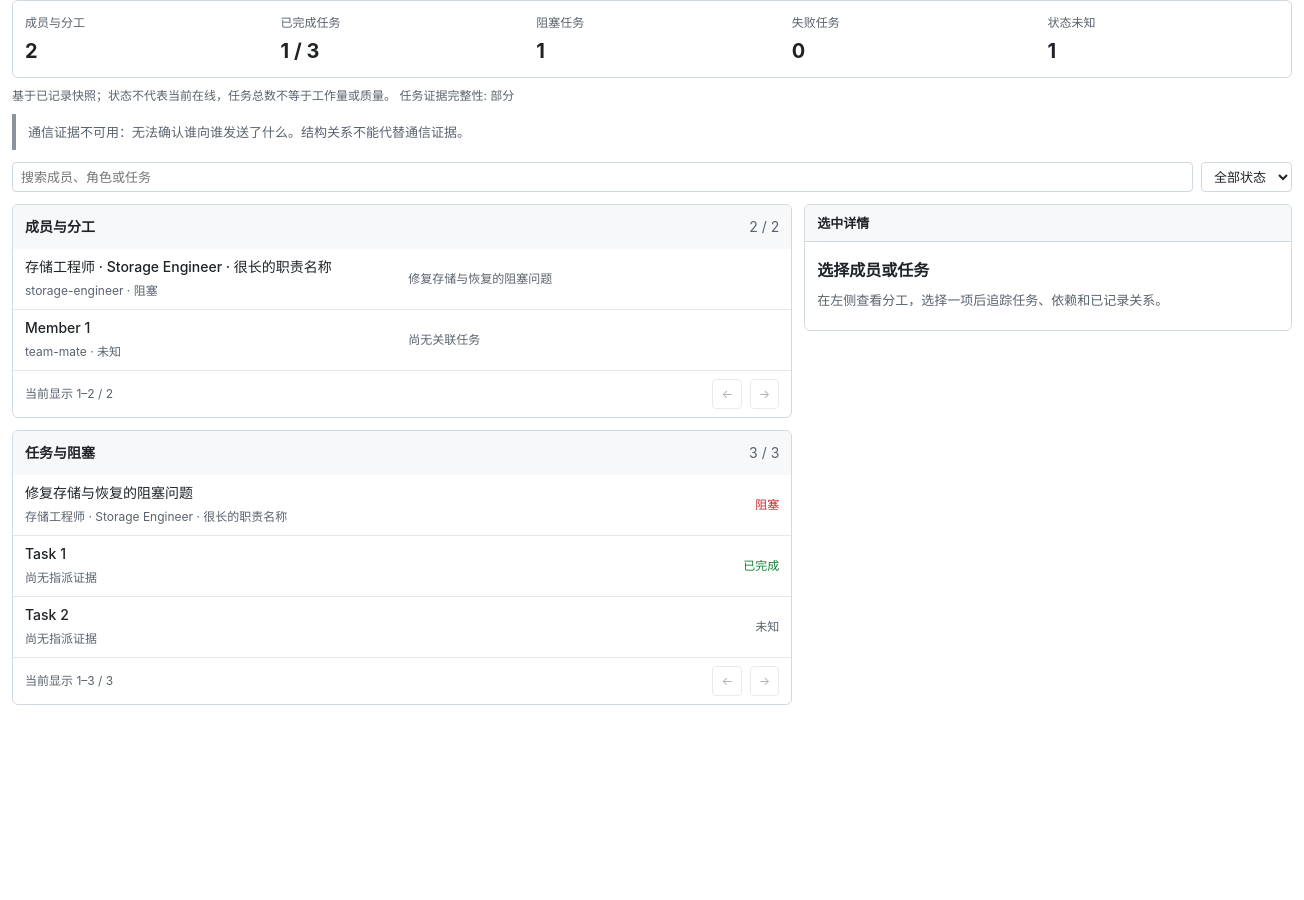
Team workbench observed responsibility and evidence workflow › retains partial event coverage, ambiguous ordering and source IDs without reading input/output/raw
Click the button with class "tw-member" that starts with "存储工程师 · Storage Engineer · 很长的职责名称": (178, 266) [13, 249, 791, 310]
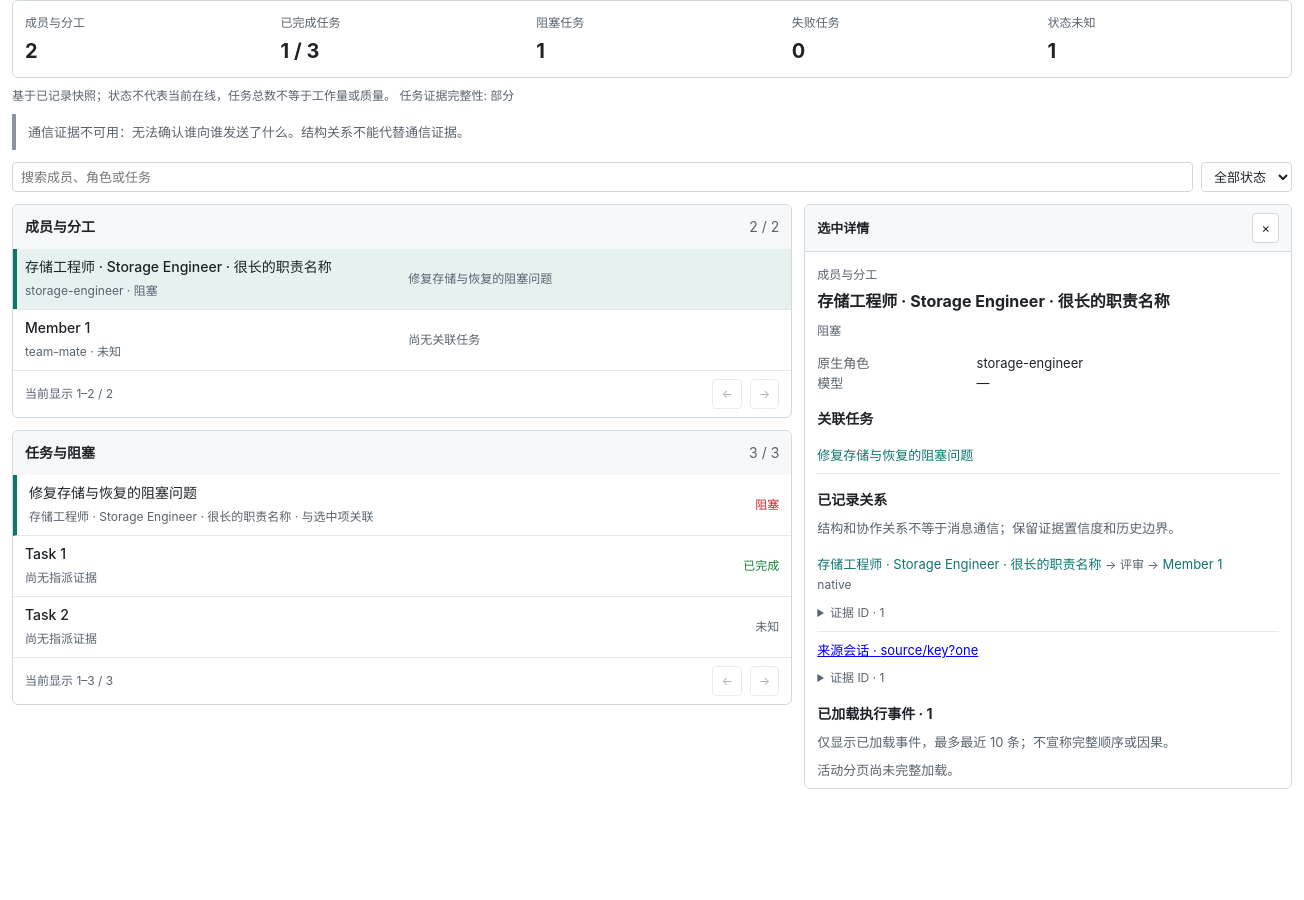
Expected: the element with class "tw-detail" shows "活动分页尚未完整加载", [817, 762, 960, 778]
